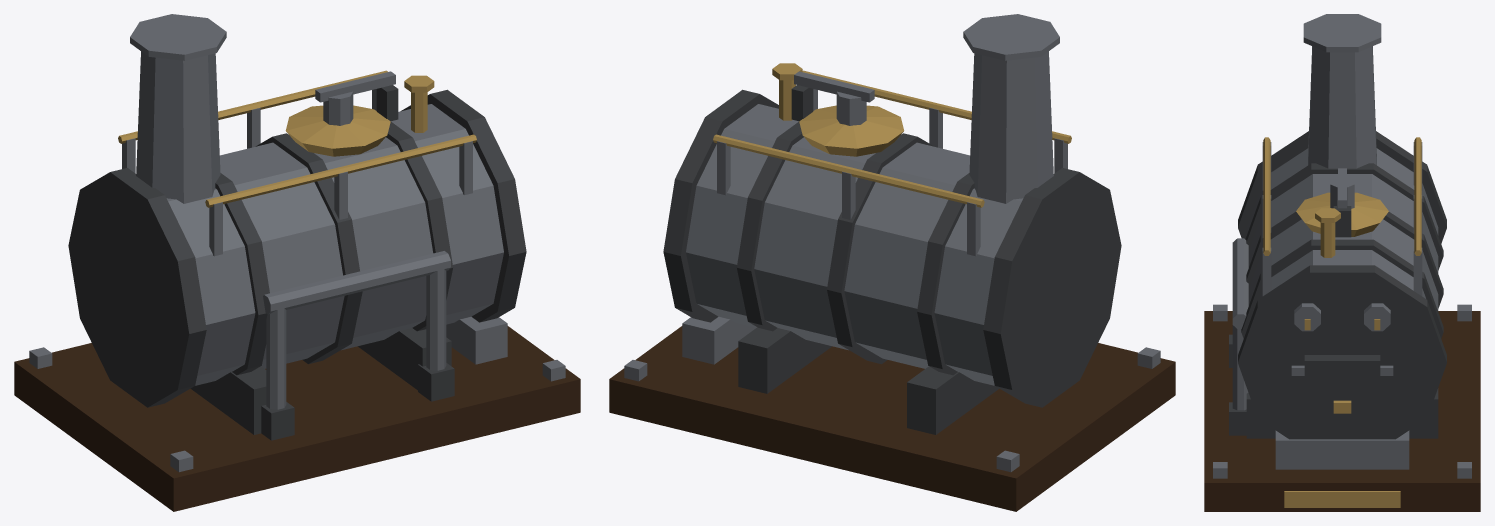
File: SN_Boiler_Standard.glb
3 views of the same model, side by side, from view 1: azimuth 30°, elevation 25°; view 2: azimuth 150°, elevation 25°; view 3: azimuth 270°, elevation 25° (orthographic). The views are drawn at different scales.
Parts seen in each view (by area): view 1: SN_Boiler_Standard; view 2: SN_Boiler_Standard; view 3: SN_Boiler_Standard.
Boxes of the visible parts, left/top/right/bottom form: SN_Boiler_Standard: left=14, top=14, right=580, bottom=511; SN_Boiler_Standard: left=609, top=14, right=1175, bottom=511; SN_Boiler_Standard: left=1204, top=14, right=1480, bottom=511.
Bounding box in the file's own units: 2.82 × 2.62 × 1.9.
